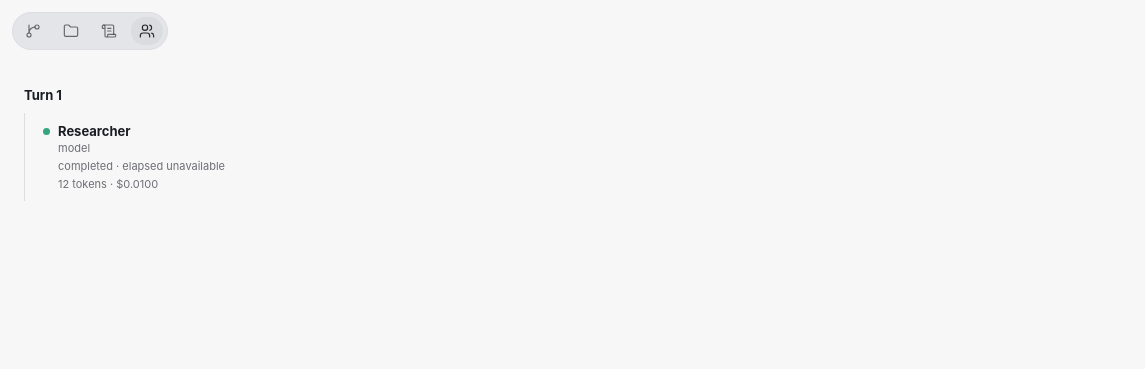
it: Agents panel › hides internal policy messages while retaining task and result text
Step 1. Click the button "Researcher" → (94, 131), box [37, 113, 1128, 201]
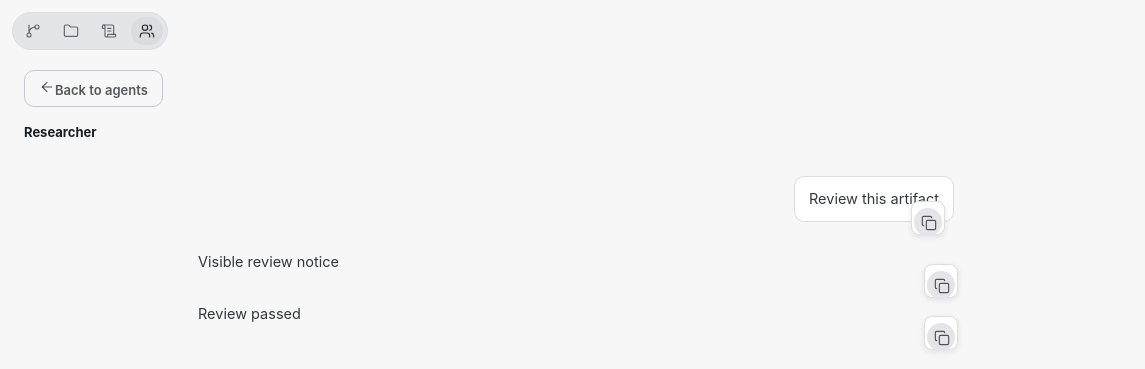
Expected: the text "Review passed" is shown, [198, 305, 301, 322]
Expected: the text "Review this artifact" is shown, [809, 187, 939, 211]
Expected: the text "Visible review notice" is shown, [198, 253, 339, 270]
